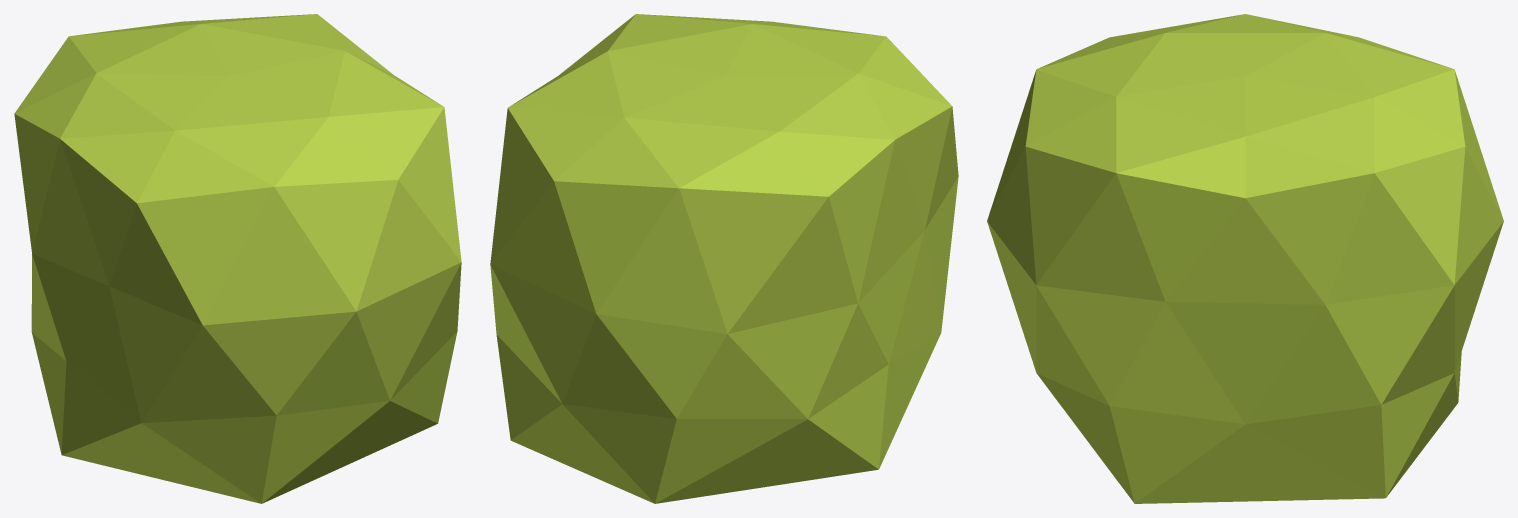
The model's file is Hedge.fbx.
3 views of the same model, side by side, from view 1: azimuth 30°, elevation 25°; view 2: azimuth 150°, elevation 25°; view 3: azimuth 270°, elevation 25° (orthographic).
Parts seen in each view (by area): view 1: Icosphere_006; view 2: Icosphere_006; view 3: Icosphere_006.
Part boxes in pixels (left/top/right/bottom): Icosphere_006: left=14, top=14, right=461, bottom=503; Icosphere_006: left=490, top=14, right=958, bottom=503; Icosphere_006: left=987, top=14, right=1503, bottom=503.
Bounding box in the file's own units: 1.54 × 1.5 × 2.
